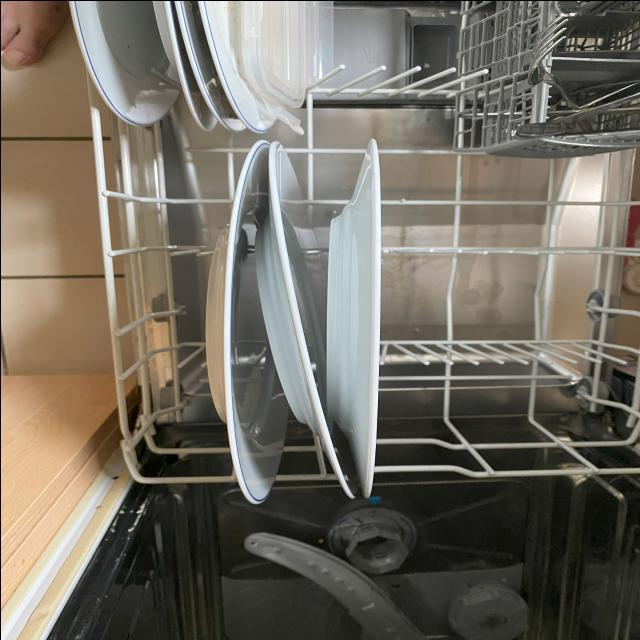empty_slot: (396, 157, 636, 447)
